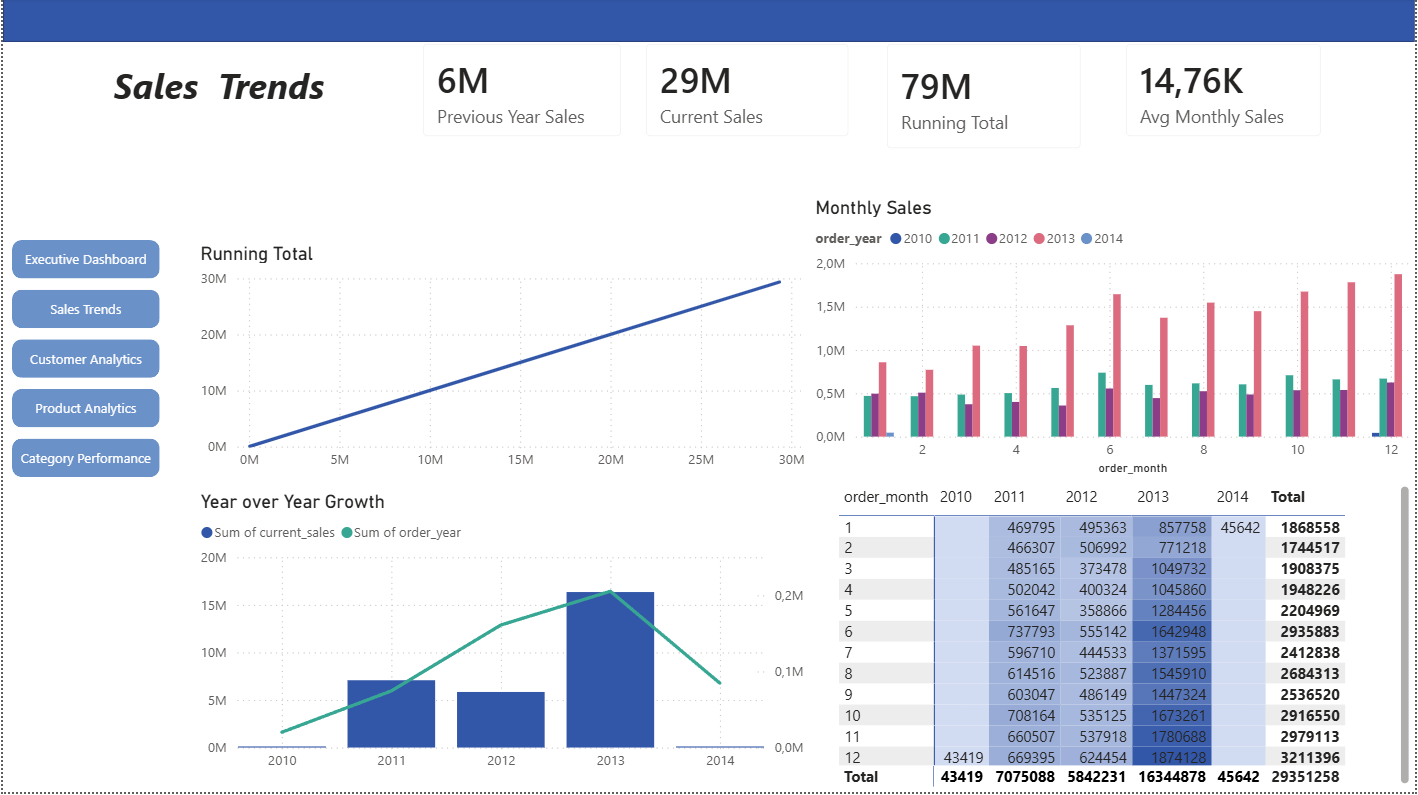

This screenshot's page, from the dashboard's own definition file:
{"tool":"powerbi","page":{"name":"Sales Trends","canvas":[1280,720],"ordinal":1},"visuals":[{"type":"textbox","box":[8.2,51.7,375.4,64.4],"z":0},{"type":"clusteredColumnChart","title":"Monthly Sales","fields":{"Category":["gold sales_trends_monthly.order_month"],"Y":["Sum(gold sales_trends_monthly.total_sales)"],"Series":["gold sales_trends_monthly.order_year"]},"box":[731.8,179.5,548.6,257.5],"z":1000},{"type":"cardVisual","fields":{"Data":["Sum(gold performance_analysis.current_sales)"]},"box":[565.8,24.5,218.5,118.8],"z":2000},{"type":"cardVisual","fields":{"Data":["Sum(gold performance_analysis.py_sales)"]},"box":[363.6,24.5,214.9,118.8],"z":3000},{"type":"cardVisual","fields":{"Data":["Sum(gold sales_summary.running_total_sales)"]},"box":[784.4,24.5,210.4,129.7],"z":4000},{"type":"lineChart","title":"Running Total","fields":{"Y":["Sum(gold sales_summary.running_total_sales)"],"Category":["gold sales_summary.running_total_sales"]},"box":[174.1,221.3,557.7,215.8],"z":5000},{"type":"lineClusteredColumnComboChart","title":"Year over Year Growth","fields":{"Category":["gold performance_analysis.order_year"],"Y":["Sum(gold performance_analysis.current_sales)"],"Y2":["Sum(gold performance_analysis.order_year)"]},"box":[174.1,446.1,557.7,263.9],"z":6000},{"type":"cardVisual","fields":{"Data":["Avg(gold report_products.avg_monthly_revenue)"]},"box":[1001.1,24.5,211.3,118.8],"z":7000},{"type":"pivotTable","fields":{"Rows":["gold sales_trends_monthly.order_month"],"Columns":["gold sales_trends_monthly.order_year"],"Values":["Sum(gold sales_trends_monthly.total_sales)"]},"box":[752.6,437.1,527.8,282.9],"z":8000},{"type":"shape","box":[0,0,1280.4,39.9],"z":9000},{"type":"pageNavigator","box":[8.2,219.4,134.2,217.6],"z":10000}]}

Visuals, with their boxes in screenshot pixels (x1, y1, x2, y2), scaled from the page's 1280x720 canvas onto the 1418x795 screenshot:
textbox: 9:57:425:128
"Monthly Sales" clusteredColumnChart: 811:198:1417:483
cardVisual - Sum(gold performance_analysis.current_sales): 627:27:869:158
cardVisual - Sum(gold performance_analysis.py_sales): 403:27:641:158
cardVisual - Sum(gold sales_summary.running_total_sales): 869:27:1102:170
"Running Total" lineChart: 193:244:811:483
"Year over Year Growth" lineClusteredColumnComboChart: 193:493:811:784
cardVisual - Avg(gold report_products.avg_monthly_revenue): 1109:27:1343:158
pivotTable - gold sales_trends_monthly.order_month x gold sales_trends_monthly.order_year: 834:483:1417:794
shape: 0:0:1417:44
pageNavigator: 9:242:158:483
